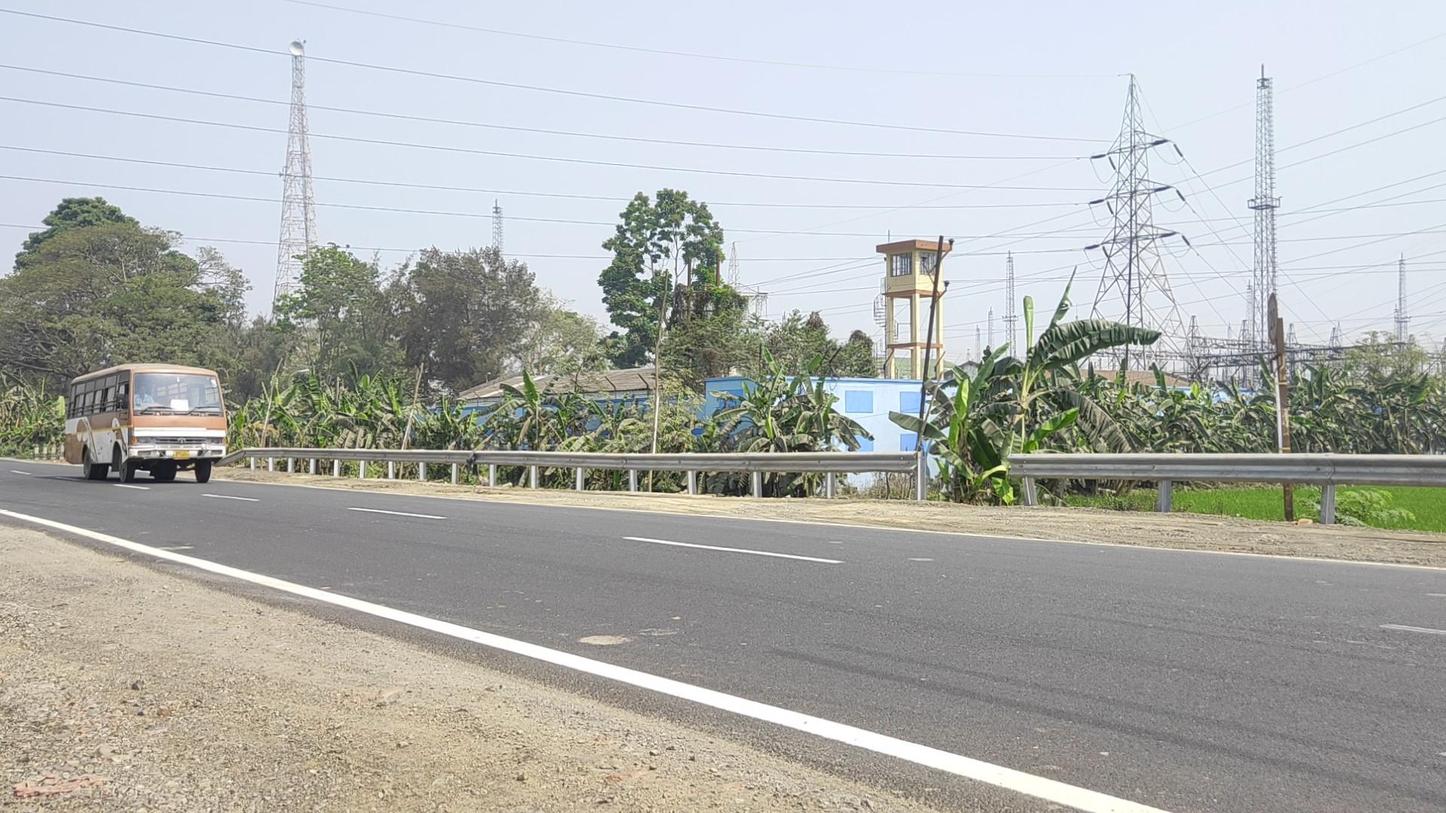Bus: (65, 362, 227, 484)
